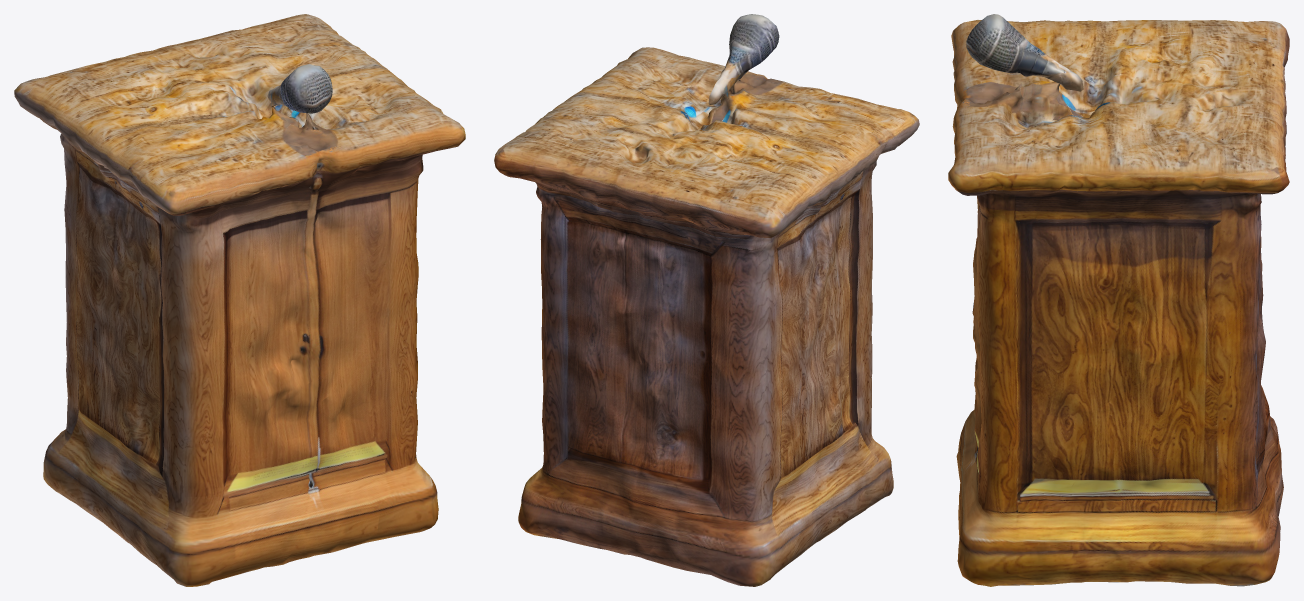
Rendered from a9d1eb8c-c700-4e5d-abed-94e202688f1f.glb.
3 views of the same model, side by side, from view 1: azimuth 30°, elevation 25°; view 2: azimuth 150°, elevation 25°; view 3: azimuth 270°, elevation 25° (orthographic). The views are drawn at different scales.
Size of the model in its own units: 0.7722 by 1.2 by 0.7109.
Materials: 1 (1 with a texture image).
